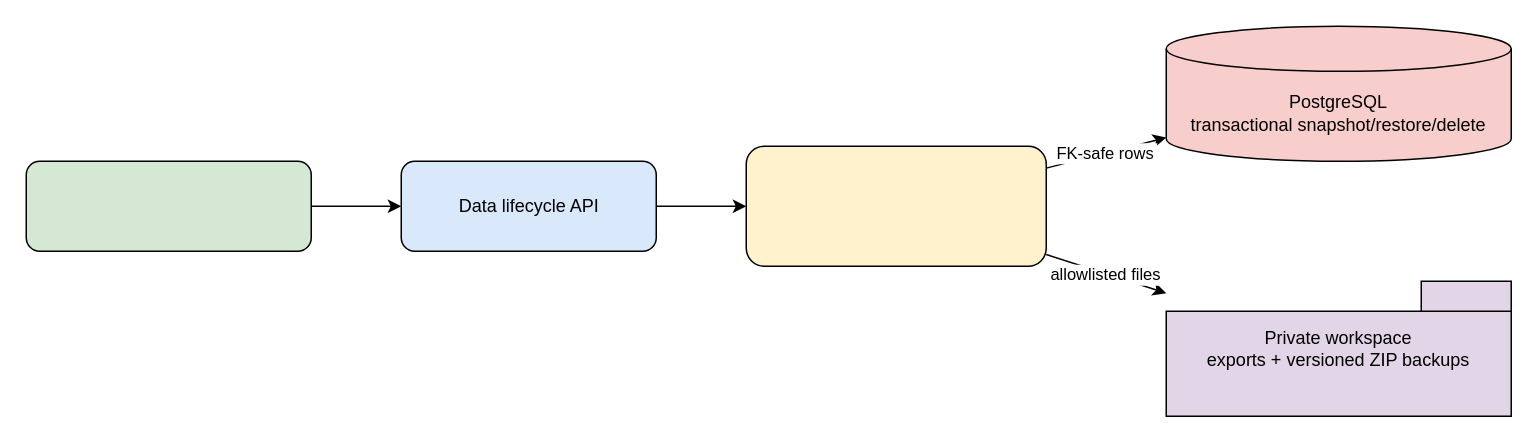
Image size: 1538x443. Some labels were removed from this diagram. Each missing label, with the centre of its shape:
DataLifecycleService validate + orchestrate: (x=895, y=205)
User + exact confirmation: (x=168, y=205)
